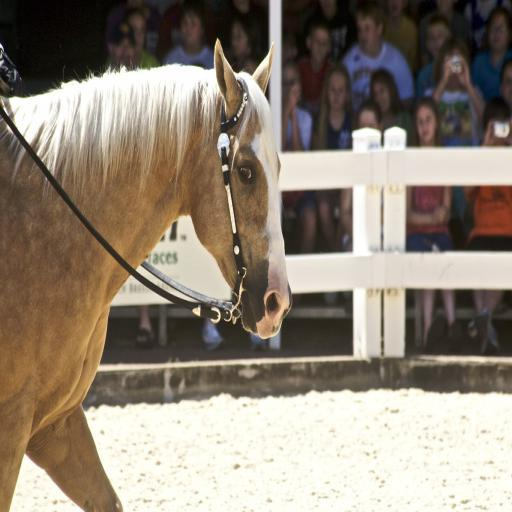Horse: (1, 38, 291, 512)
